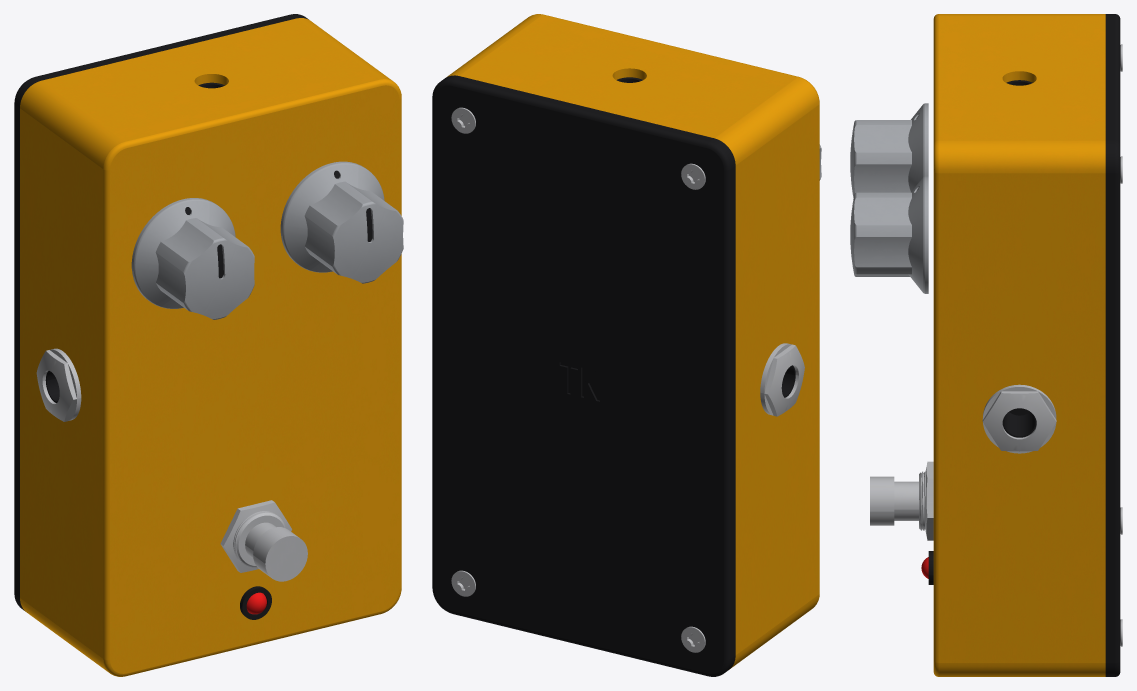
The model's file is Pedal2.glb.
3 views of the same model, side by side, from view 1: azimuth 30°, elevation 25°; view 2: azimuth 150°, elevation 25°; view 3: azimuth 270°, elevation 25° (orthographic).
Visible parts, largest first — view 1: Shape_IndexedFaceSet.083, Shape_IndexedFaceSet.056, Shape_IndexedFaceSet.064, Shape_IndexedFaceSet.088, Shape_IndexedFaceSet.092, Shape_IndexedFaceSet.327, Shape_IndexedFaceSet.288, Shape_IndexedFaceSet.044, Shape_IndexedFaceSet.337, Shape_IndexedFaceSet.298, Shape_IndexedFaceSet.299, Shape_IndexedFaceSet.338 (+17 smaller); view 2: Shape_IndexedFaceSet, Shape_IndexedFaceSet.056, Shape_IndexedFaceSet.064, Shape_IndexedFaceSet.088, Shape_IndexedFaceSet.051, Shape_IndexedFaceSet.044, Shape_IndexedFaceSet.053, Shape_IndexedFaceSet.055, Shape_IndexedFaceSet.046, Shape_IndexedFaceSet.086, Shape_IndexedFaceSet.049, Shape_IndexedFaceSet.239 (+1 smaller); view 3: Shape_IndexedFaceSet.057, Shape_IndexedFaceSet.064, Shape_IndexedFaceSet.087, Shape_IndexedFaceSet.040, Shape_IndexedFaceSet.055, Shape_IndexedFaceSet.096, Shape_IndexedFaceSet.084, Shape_IndexedFaceSet.349, Shape_IndexedFaceSet.348, Shape_IndexedFaceSet.310, Shape_IndexedFaceSet.309, Shape_IndexedFaceSet.046 (+13 smaller).
Part boxes in pixels (<box>): Shape_IndexedFaceSet.083: <box>110,85,399,673</box>; Shape_IndexedFaceSet.056: <box>20,108,103,658</box>; Shape_IndexedFaceSet.064: <box>41,18,379,141</box>; Shape_IndexedFaceSet.088: <box>20,81,124,168</box>; Shape_IndexedFaceSet.092: <box>103,169,109,659</box>; Shape_IndexedFaceSet.327: <box>284,164,358,270</box>; Shape_IndexedFaceSet.288: <box>135,201,209,306</box>; Shape_IndexedFaceSet.044: <box>15,105,19,597</box>; Shape_IndexedFaceSet.337: <box>334,204,385,278</box>; Shape_IndexedFaceSet.298: <box>185,240,236,315</box>; Shape_IndexedFaceSet.299: <box>204,244,254,318</box>; Shape_IndexedFaceSet.338: <box>353,208,403,282</box>; Shape_IndexedFaceSet: <box>434,85,723,673</box>; Shape_IndexedFaceSet.056: <box>735,105,819,654</box>; Shape_IndexedFaceSet.064: <box>459,15,797,138</box>; Shape_IndexedFaceSet.088: <box>715,77,818,165</box>; Shape_IndexedFaceSet.051: <box>724,169,730,659</box>; Shape_IndexedFaceSet.044: <box>730,166,735,658</box>; Shape_IndexedFaceSet.053: <box>452,79,708,147</box>; Shape_IndexedFaceSet.055: <box>432,98,434,588</box>; Shape_IndexedFaceSet.046: <box>454,76,713,141</box>; Shape_IndexedFaceSet.086: <box>729,594,818,669</box>; Shape_IndexedFaceSet.049: <box>452,611,707,676</box>; Shape_IndexedFaceSet.239: <box>768,352,790,416</box>; Shape_IndexedFaceSet.057: <box>938,173,1105,662</box>; Shape_IndexedFaceSet.064: <box>938,16,1105,140</box>; Shape_IndexedFaceSet.087: <box>938,140,1105,173</box>; Shape_IndexedFaceSet.040: <box>1105,173,1115,662</box>; Shape_IndexedFaceSet.055: <box>1115,172,1120,662</box>; Shape_IndexedFaceSet.096: <box>933,172,938,662</box>; Shape_IndexedFaceSet.084: <box>938,663,1105,676</box>; Shape_IndexedFaceSet.349: <box>854,237,911,267</box>; Shape_IndexedFaceSet.348: <box>854,197,911,225</box>; Shape_IndexedFaceSet.310: <box>854,164,911,192</box>; Shape_IndexedFaceSet.309: <box>854,125,911,152</box>; Shape_IndexedFaceSet.046: <box>1105,16,1115,140</box>.
Size of the model in its own units: 0.7551 by 1.2 by 0.555.
Materials: 5 (4 with a texture image).
